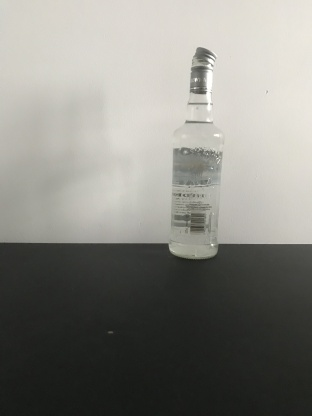nakretka: (188, 45, 217, 94)
